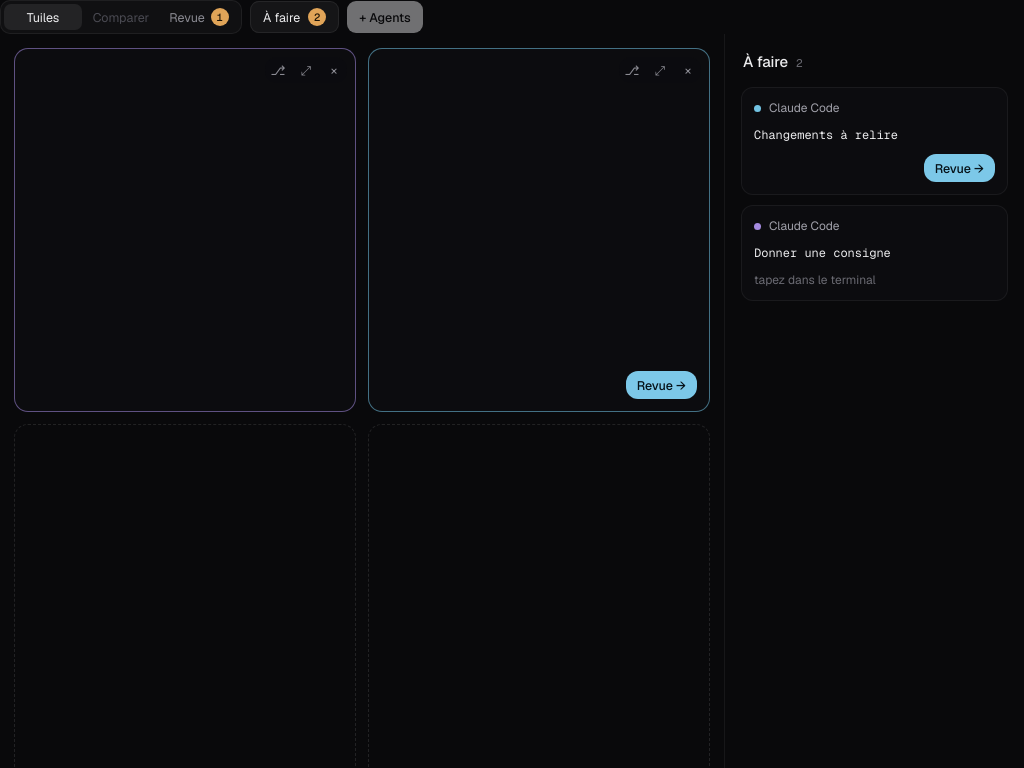
Test: Review (002 T018, US1) › sends the request back to the agent, then goes back to the tiles (FR-015)
Click the 2nd button "Revue →" at x=661, y=385, box [626, 371, 697, 399]
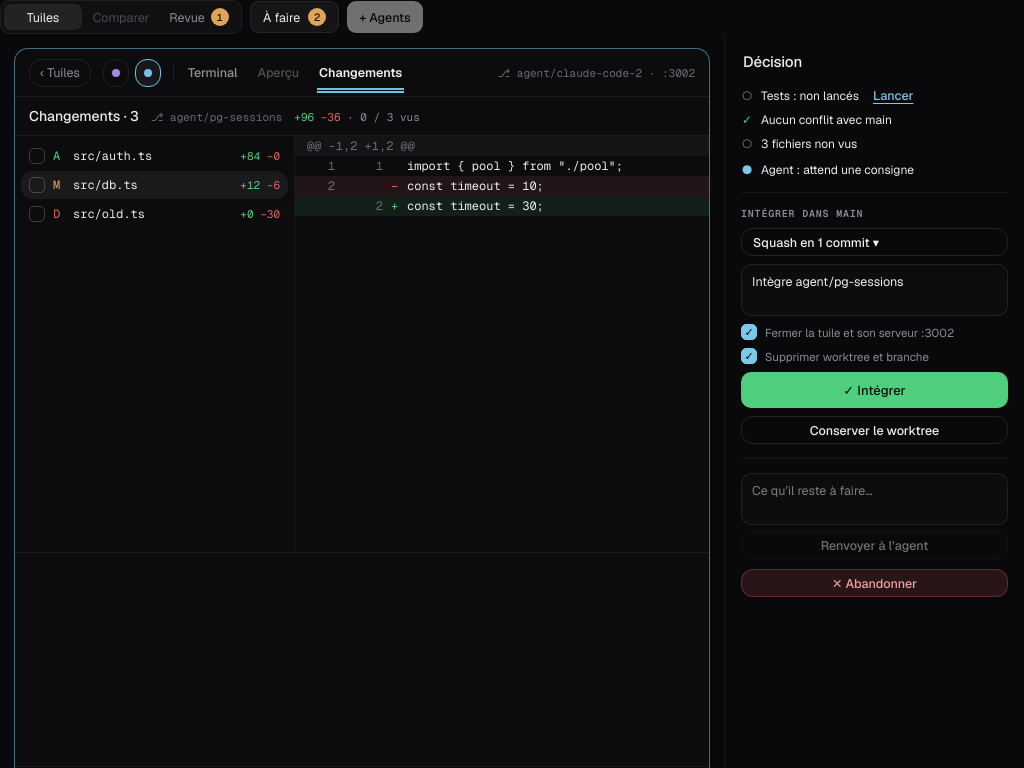
Type "Encore un test." into the text box named "Demande à l’agent" at x=874, y=499, box [741, 473, 1008, 525]
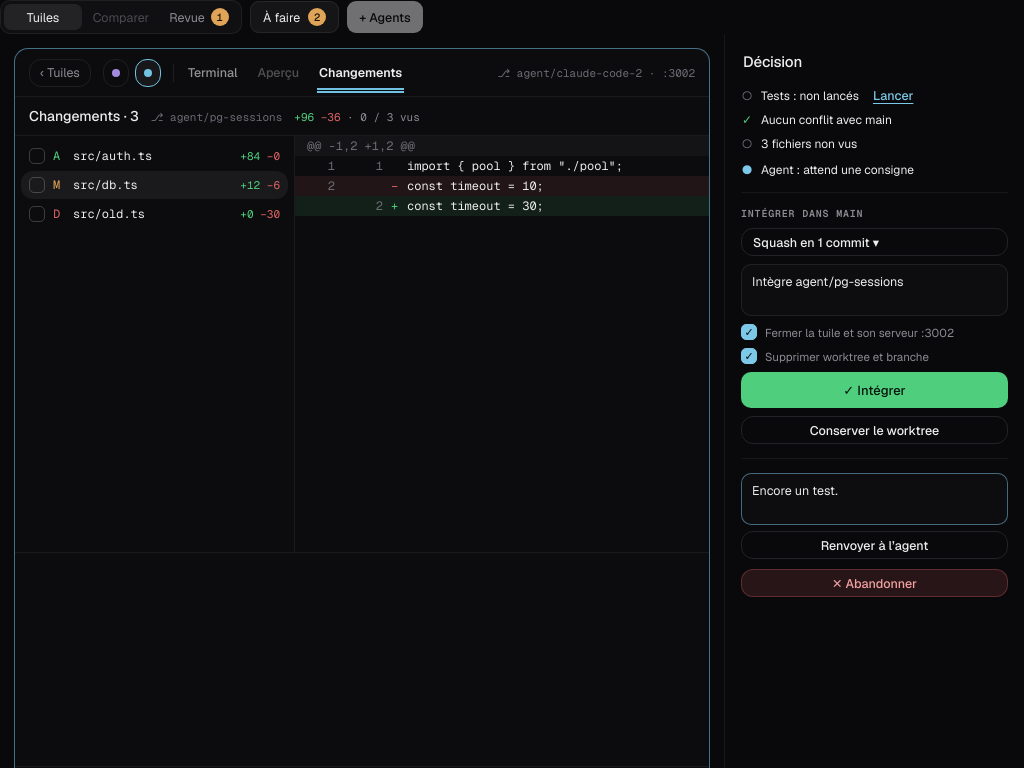
Click the button "Renvoyer à l’agent" at x=874, y=545, box [741, 531, 1008, 559]
(page scrolled)
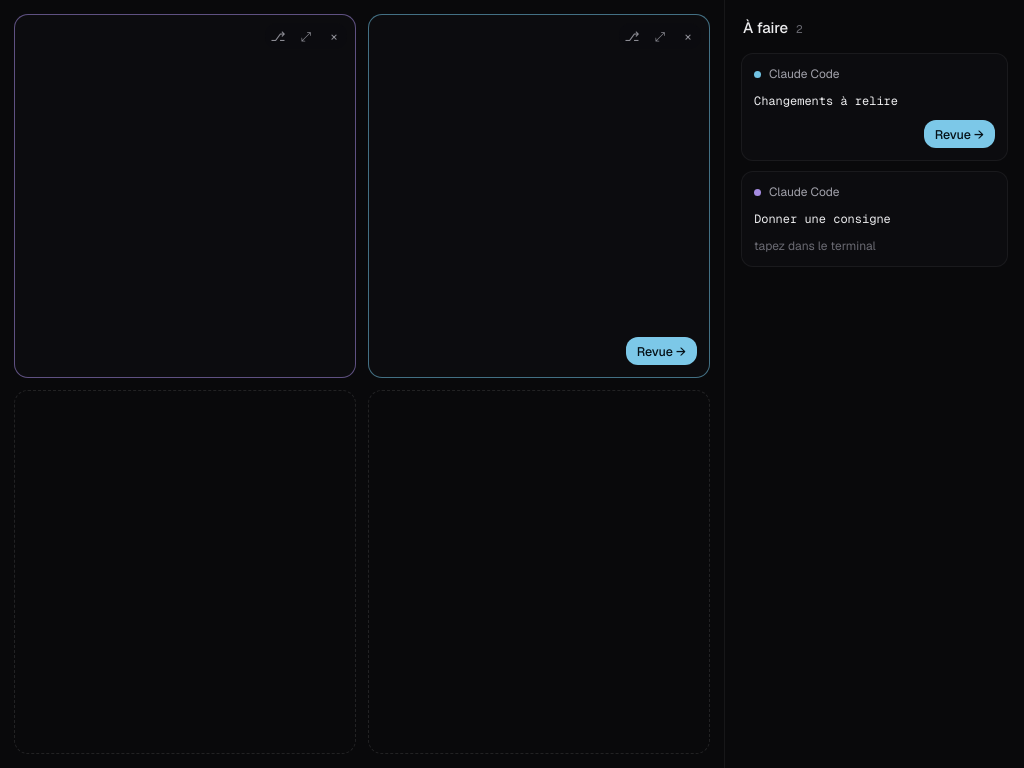
Result: the element named "Tuiles" is shown
